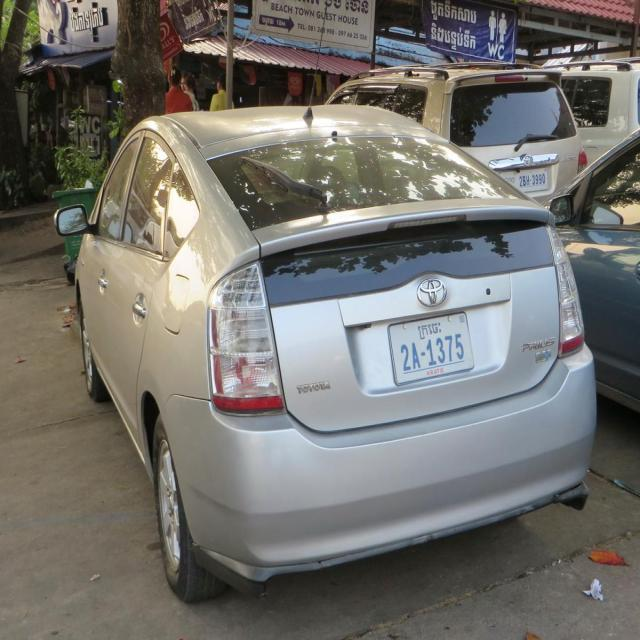Kratie: (417, 322, 444, 340)
